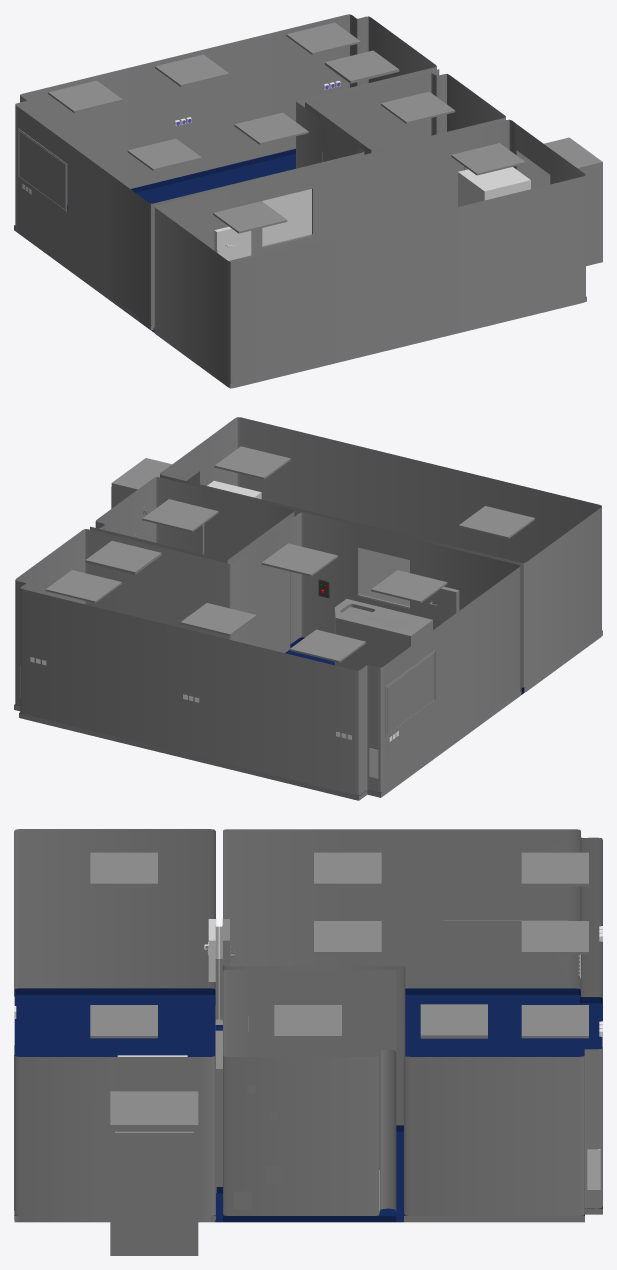
File: Hata.FBX
3 views of the same model, one above another, from view 1: azimuth 30°, elevation 25°; view 2: azimuth 150°, elevation 25°; view 3: azimuth 270°, elevation 25° (orthographic). The views are drawn at different scales.
Visible parts, largest first — view 1: Walls, floor, Door1, window, 2M, Glass, VityagkaUp, Lamps006, Lamps004, Lamps001, Lamps008, Lamps005 (+5 smaller); view 2: Walls, Moika, Door2, floor, window, Glass, VityagkaUp, Lamps003, Lamps008, Lamps006, Lamps005, Lamps004 (+6 smaller); view 3: Walls, floor, Door(Whod), window, VityagkaUp, Lamps008, Lamps005, Lamps002, Door2, Lamps006, Lamps004, Lamps003 (+4 smaller).
Part boxes in pixels (box(x1,y1,x2,y2)): Walls: box(15, 14, 602, 388); floor: box(14, 148, 586, 388); Door1: box(404, 163, 464, 219); window: box(19, 132, 65, 209); 2M: box(458, 167, 530, 206); Glass: box(262, 189, 311, 245); VityagkaUp: box(325, 50, 399, 83); Lamps006: box(451, 143, 525, 175); Lamps004: box(234, 112, 308, 144); Lamps001: box(155, 54, 229, 86); Lamps008: box(213, 201, 287, 233); Lamps005: box(127, 138, 201, 170); Walls: box(15, 417, 601, 795); Moika: box(334, 599, 432, 670); Door2: box(257, 566, 290, 652); floor: box(14, 630, 602, 800); window: box(387, 653, 434, 733); Glass: box(359, 548, 409, 606); VityagkaUp: box(85, 541, 161, 574); Lamps003: box(142, 499, 218, 532); Lamps008: box(458, 506, 534, 538); Lamps006: box(214, 446, 290, 479); Lamps005: box(371, 570, 447, 603); Lamps004: box(261, 543, 337, 576); Walls: box(14, 829, 602, 1255); floor: box(14, 988, 602, 1255); Door(Whod): box(115, 1133, 193, 1250); window: box(445, 859, 566, 918); VityagkaUp: box(420, 1004, 487, 1038); Lamps008: box(90, 852, 157, 886); Lamps005: box(314, 852, 381, 886); Lamps002: box(521, 852, 588, 886); Door2: box(249, 1011, 336, 1056); Lamps006: box(90, 1005, 157, 1038); Lamps004: box(314, 921, 381, 954); Lamps003: box(274, 1005, 341, 1038).
Size of the model in its own units: 8.33 by 2.46 by 7.89.
